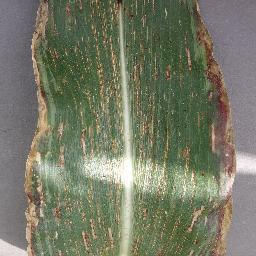Gray_Leaf_Spot: (17, 0, 241, 256)
